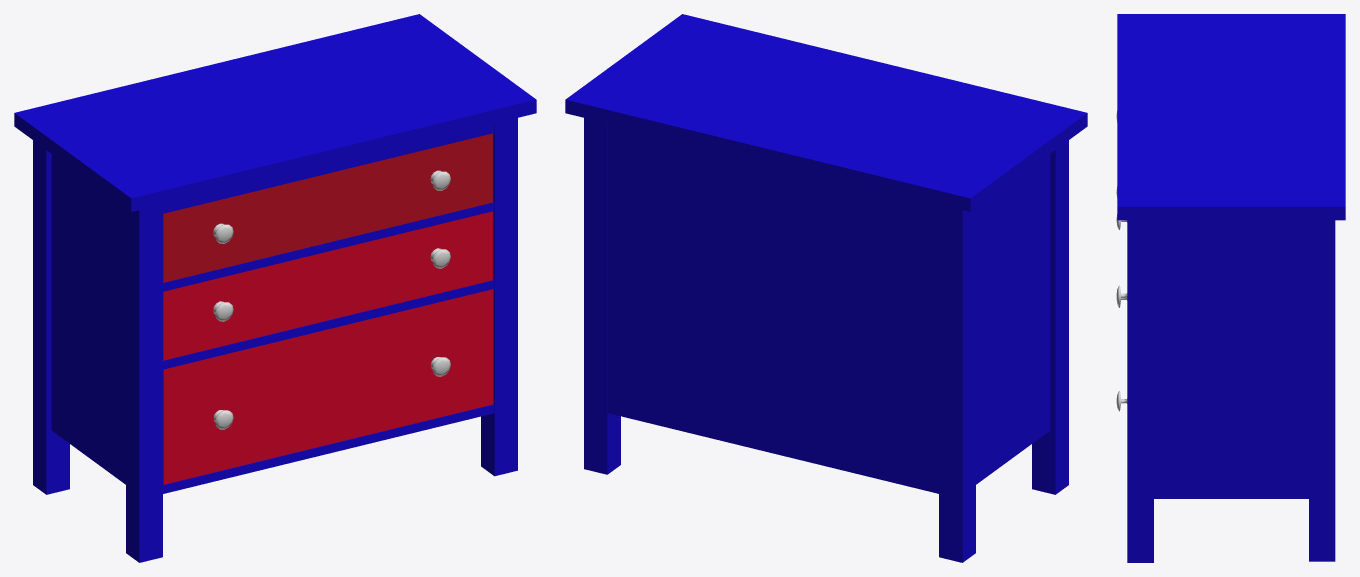
The model's file is Housecabinet1.fbx.
The picture shows the model from 3 angles, left to right: view 1: azimuth 30°, elevation 25°; view 2: azimuth 150°, elevation 25°; view 3: azimuth 270°, elevation 25°; orthographic projection. The views are drawn at different scales.
Parts seen in each view (by area): view 1: CabinetA_Frame_low; view 2: CabinetA_Frame_low; view 3: CabinetA_Frame_low.
Part boxes in pixels (<box>): CabinetA_Frame_low: <box>14,14,536,562</box>; CabinetA_Frame_low: <box>565,14,1087,562</box>; CabinetA_Frame_low: <box>1116,14,1345,562</box>.
Size of the model in its own units: 110 by 96.39 by 55.21.
